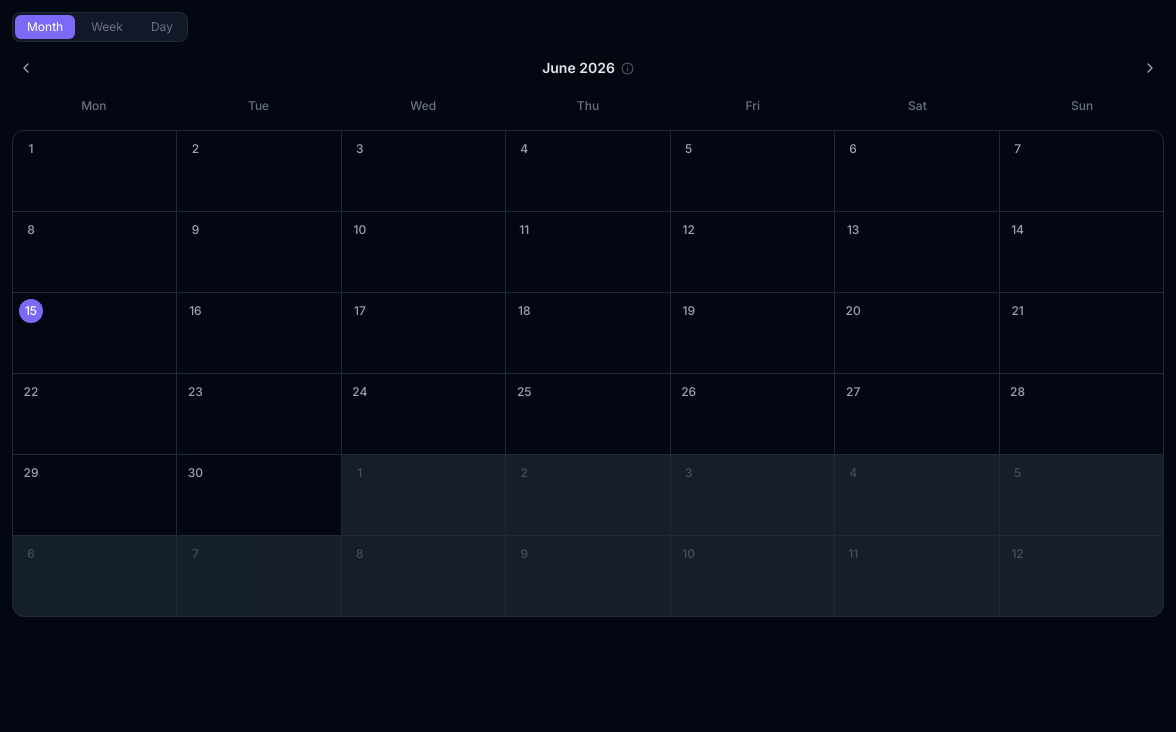
Scenario: CalendarView › navigates to next month on clicking right arrow
Click the button named "next month": (1150, 68) [1136,54,1164,82]
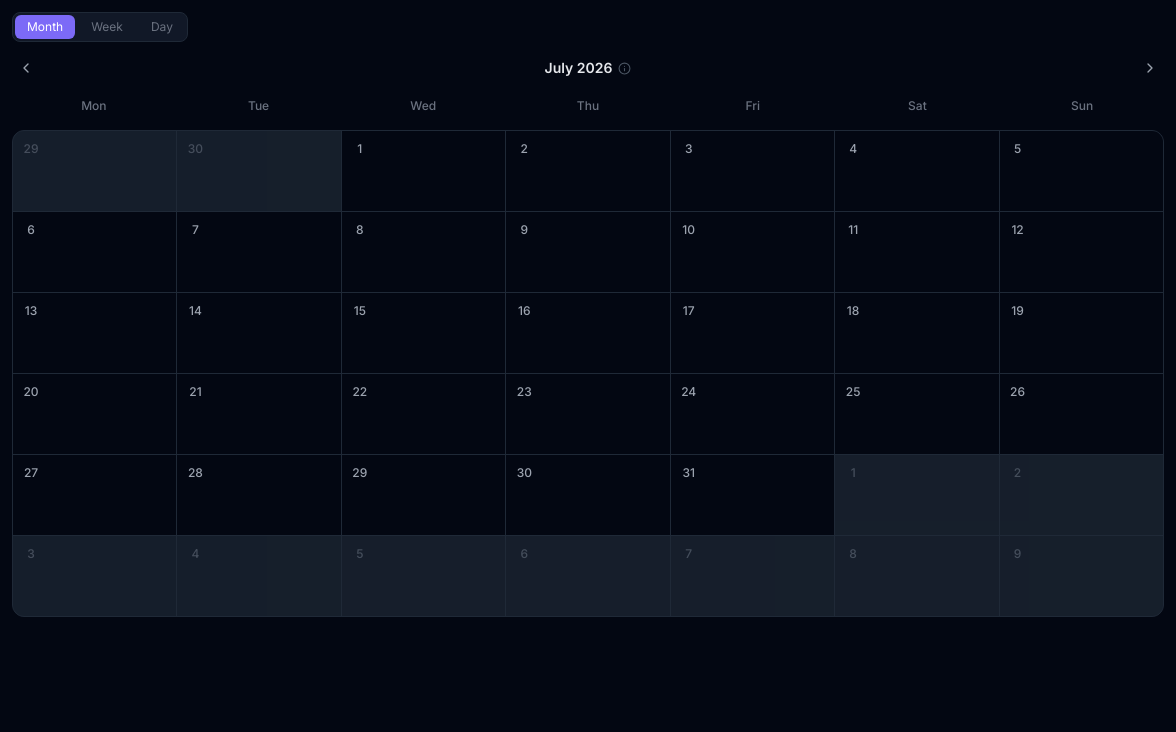
Now the text "July 2026" is shown, box [545,58,612,78]
